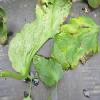Tomato leaf bacterial spot: (48, 18, 99, 70)
